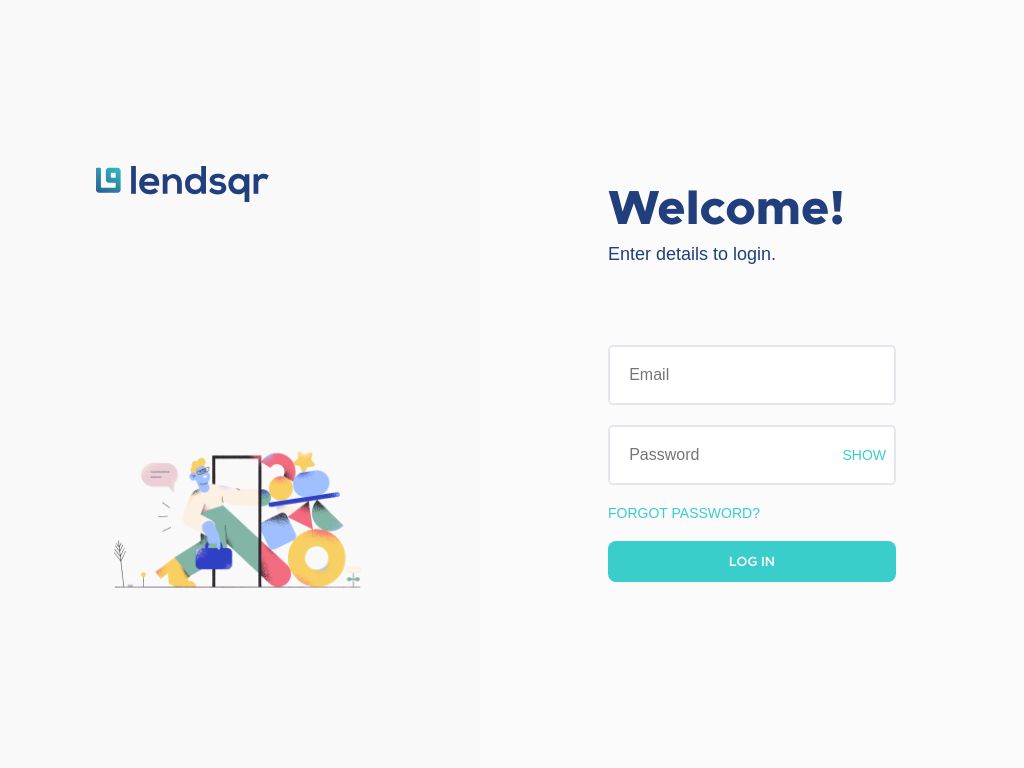
it: Unit tests › should route to DashboardPage after user login successfully
In the field with test id "emailInput": (752, 375) [608,345,896,405], type "test@gmail.com"
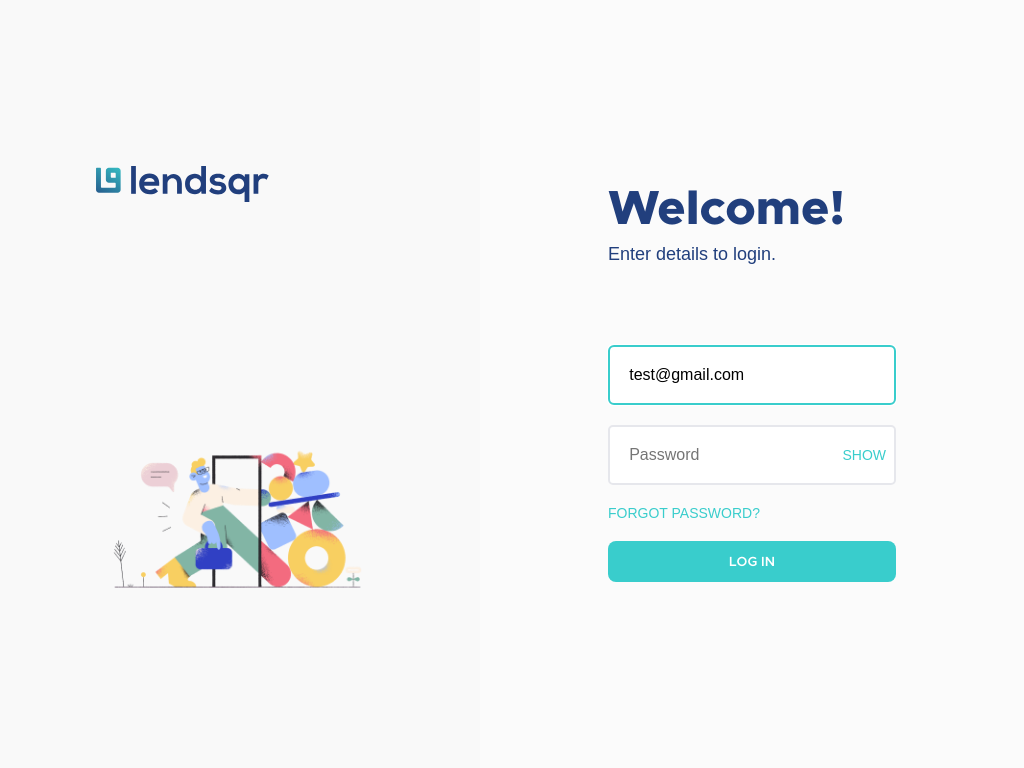
In the password field with test id "passwordInput": (752, 455) [608,425,896,485], type "testPassword"
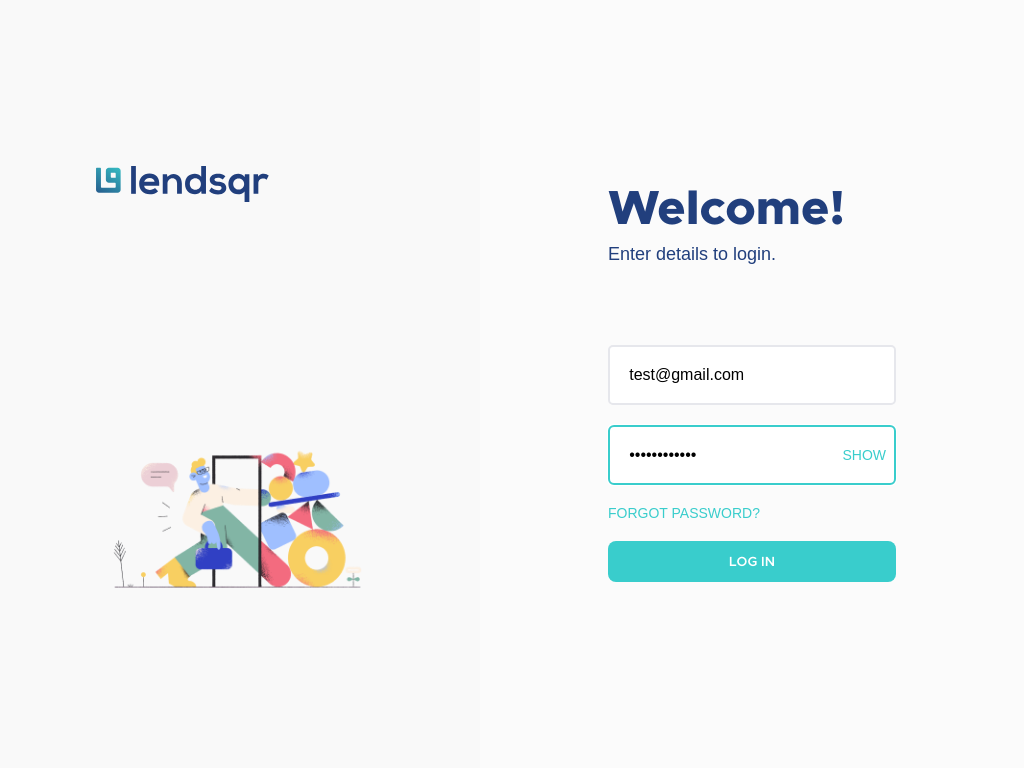
Click the button with test id "formSubmit": click(752, 562) [608,541,896,582]
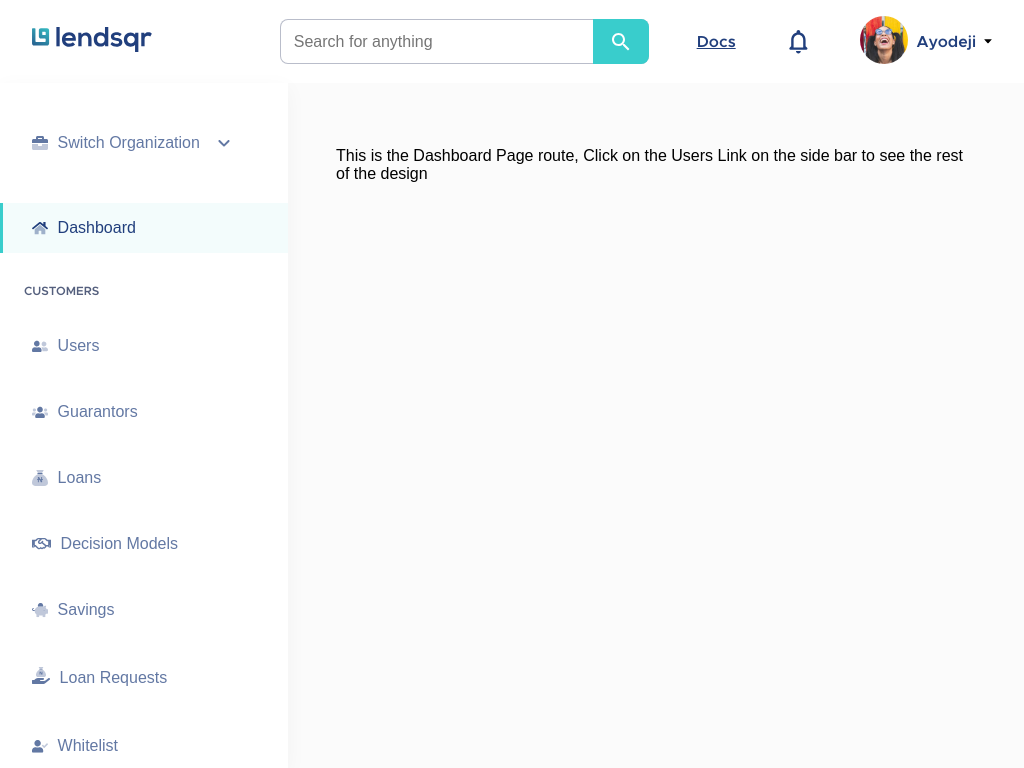
Now the element with test id "dashboardWrapper" is shown, box [0,0,1023,247]
